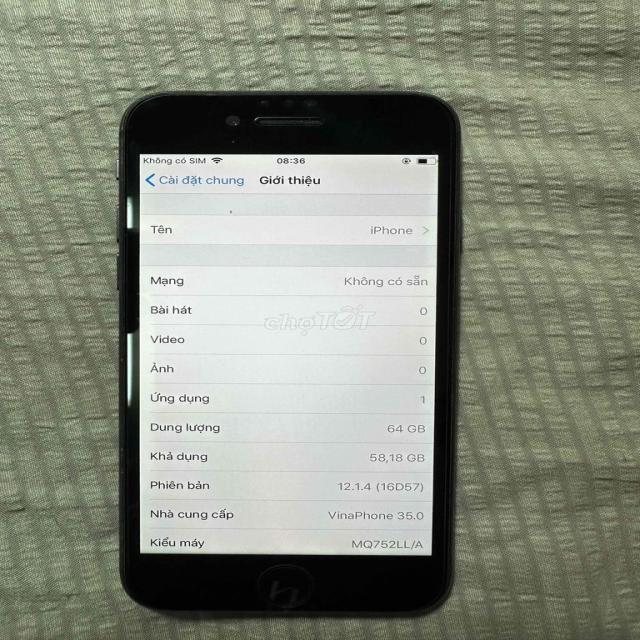screen_defect: (116, 322, 141, 412), (113, 190, 138, 227)
